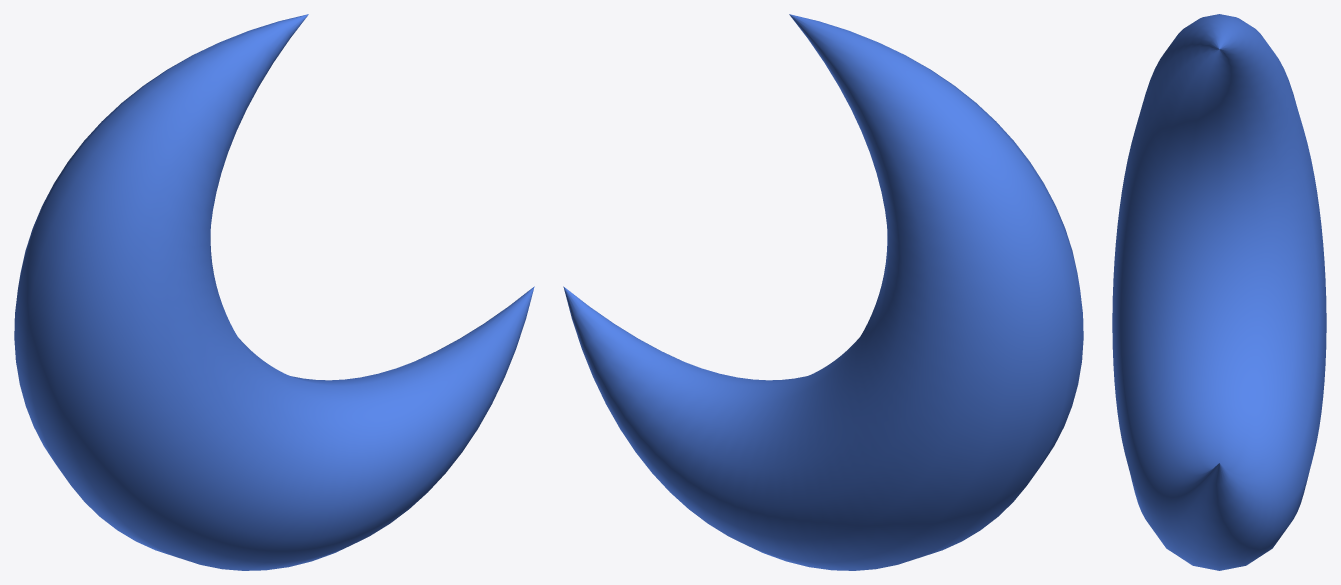
File: Moon.fbx
3 views of the same model, side by side, from view 1: azimuth 30°, elevation 25°; view 2: azimuth 150°, elevation 25°; view 3: azimuth 270°, elevation 25° (orthographic). The views are drawn at different scales.
Visible parts, largest first — view 1: Moon; view 2: Moon; view 3: Moon.
Boxes of the visible parts, left/top/right/bottom form: Moon: left=14, top=14, right=534, bottom=570; Moon: left=563, top=14, right=1083, bottom=570; Moon: left=1112, top=14, right=1326, bottom=570.
Bounding box in the file's own units: 263 × 267 × 102.
